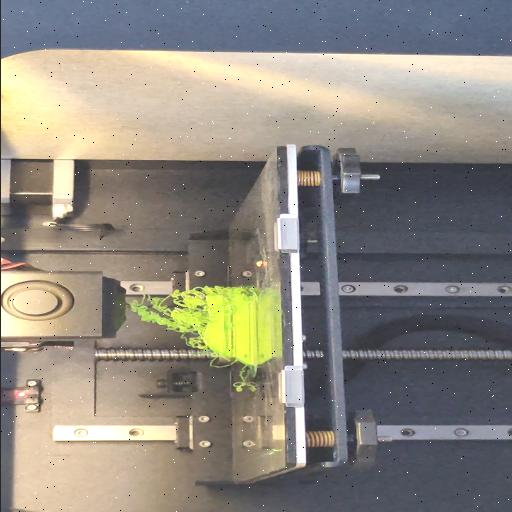spaghetti: (122, 286, 208, 350), (207, 284, 254, 298), (232, 364, 250, 392), (204, 358, 238, 370)
